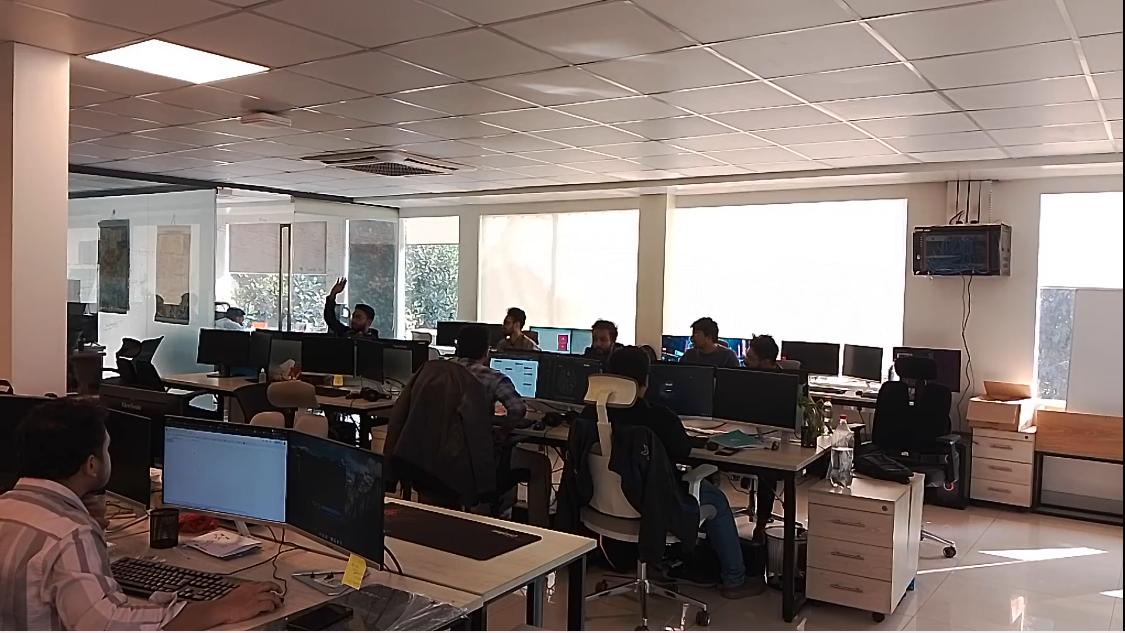hand: (317, 267, 353, 332)
